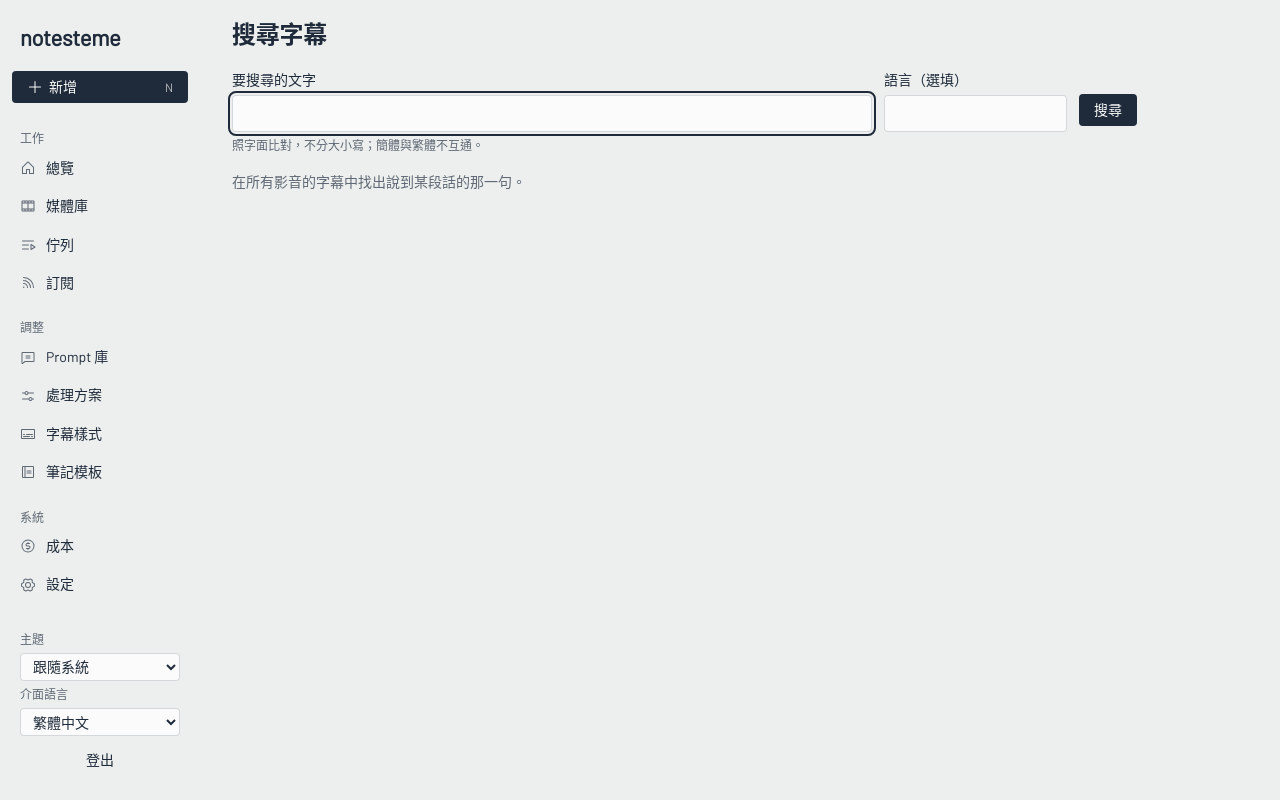
Test: 搜尋頁 › 送出前檢查空白與長度；送出後查詢寫進 URL
The image size is (1280, 800).
Click the button "搜尋".
click(1108, 110)  # box [1079,94,1137,126]
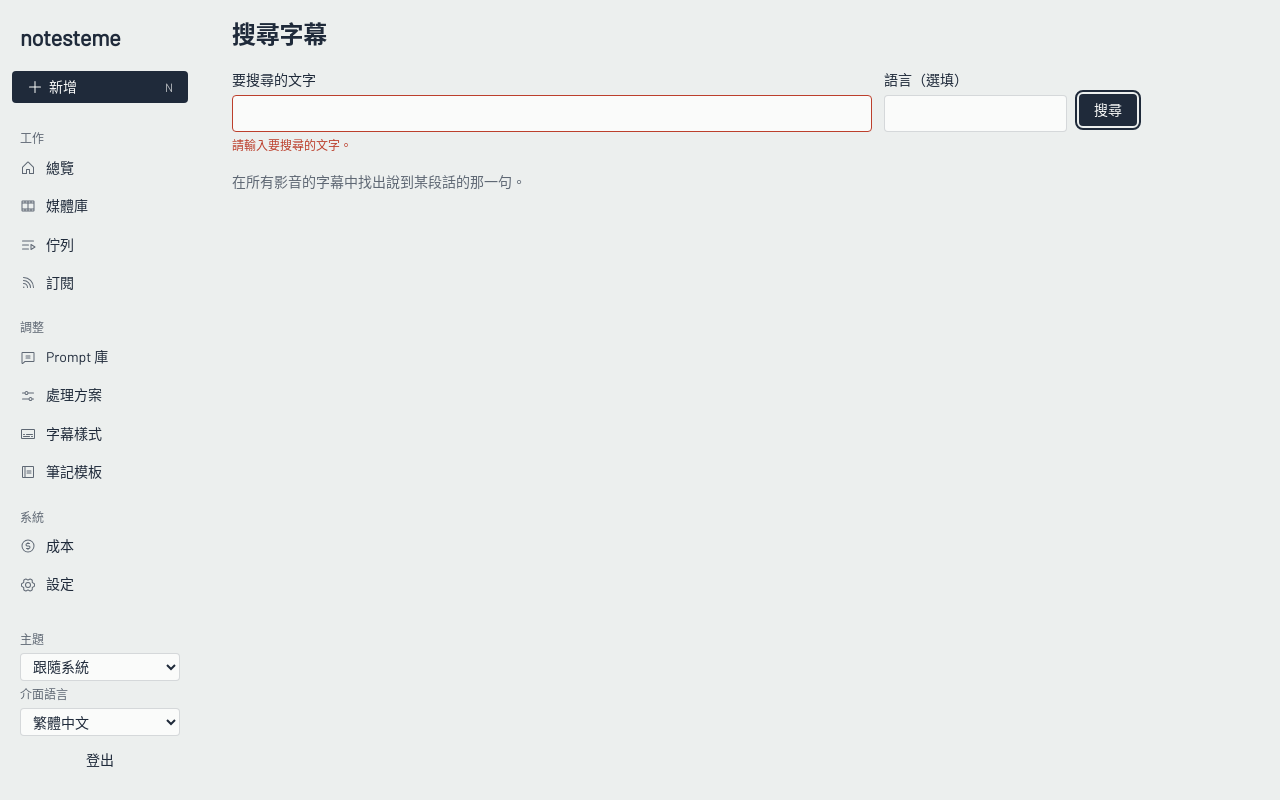
Check: the text "請輸入要搜尋的文字。" is shown, box [232,138,352,152]
Type "假装" into the search field labelled "要搜尋的文字".
click(552, 113); type("假装")  # box [232,95,872,132]
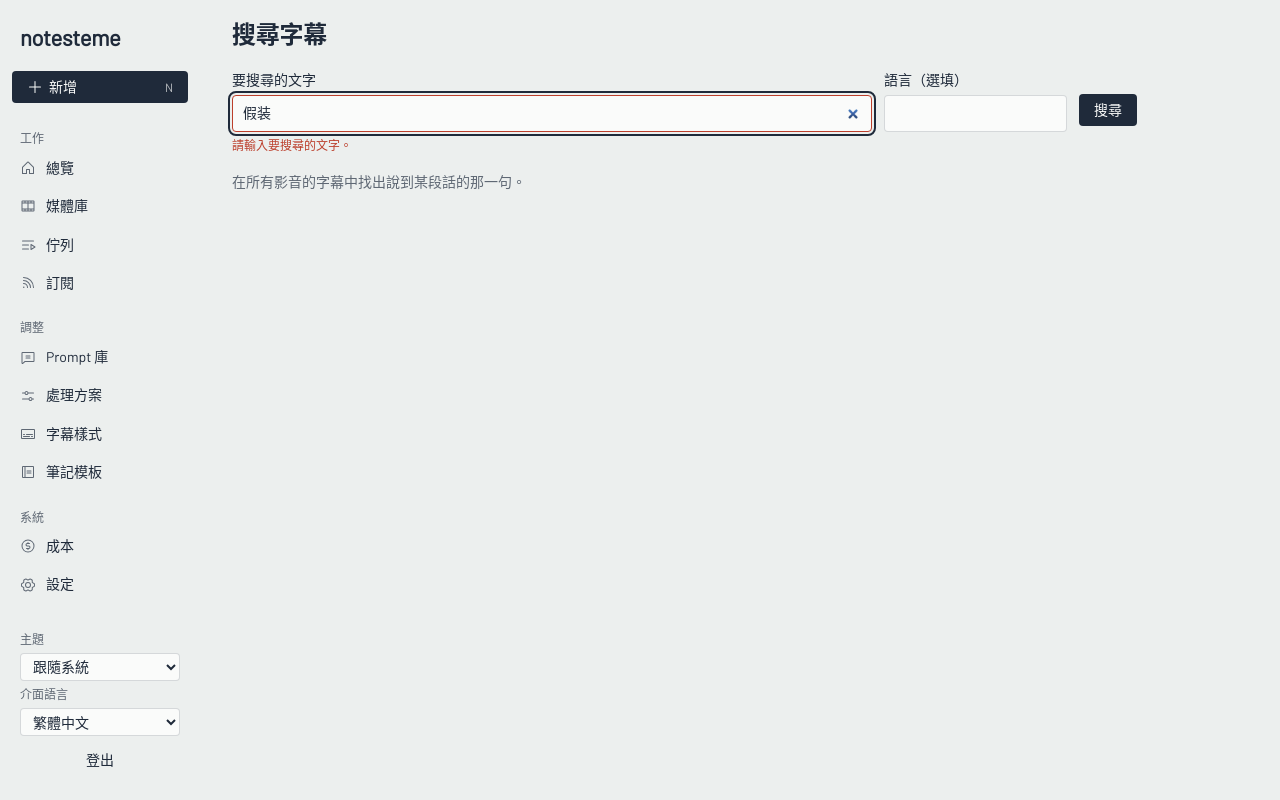
Click the button "搜尋".
click(1108, 110)  # box [1079,94,1137,126]
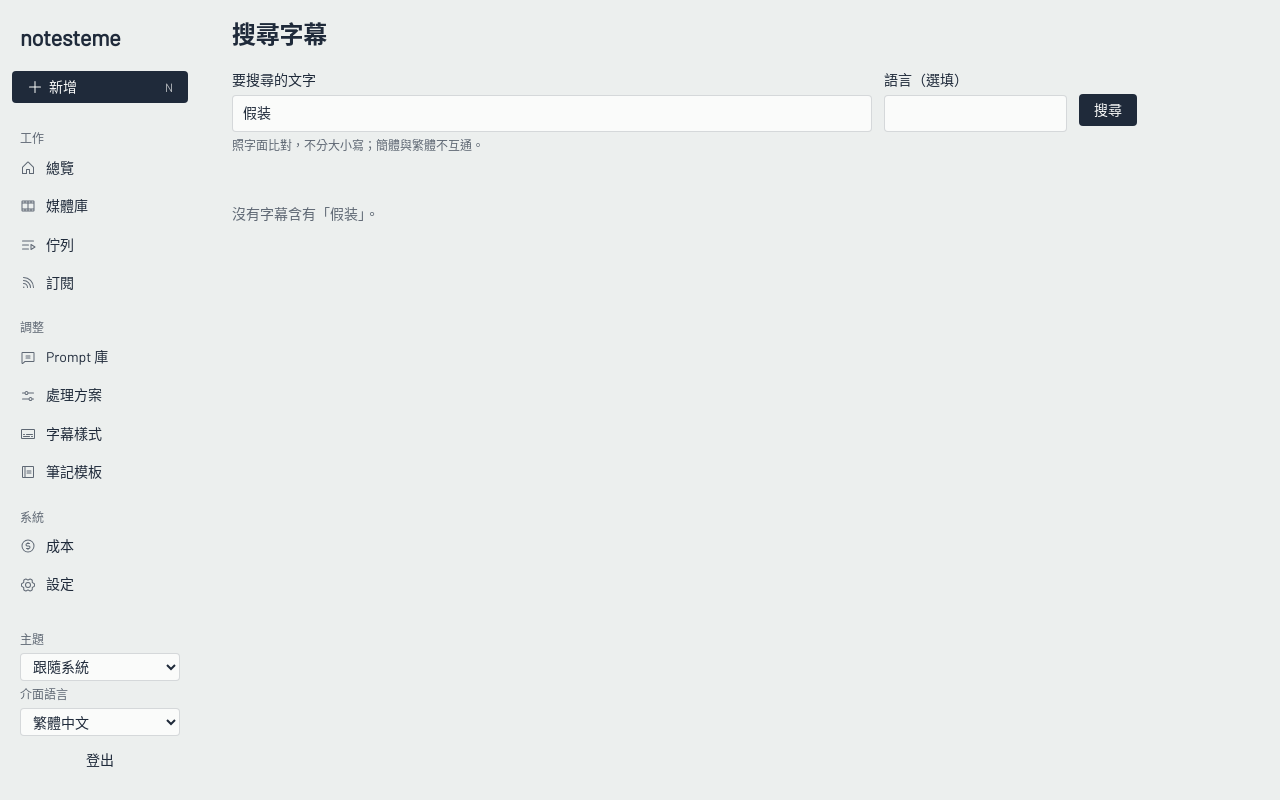
Check: the text "沒有字幕含有「假装」。" is shown, box [232,203,379,225]
